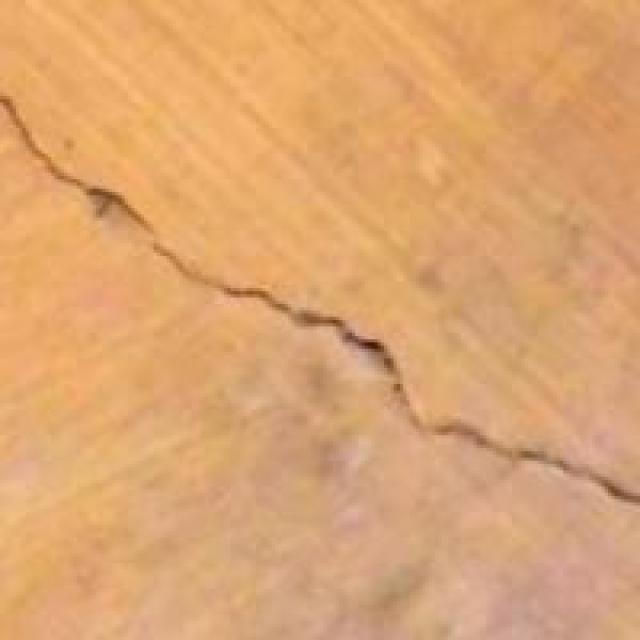Crack: (0, 67, 637, 531)
